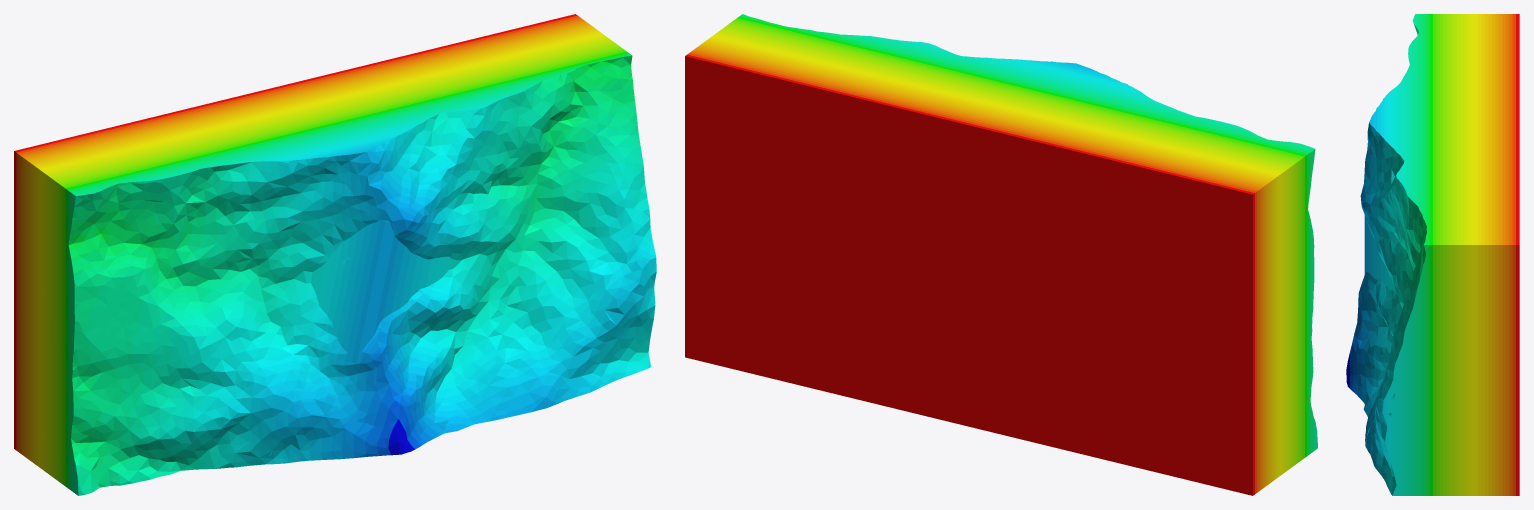
File: Elevation_contour.fbx
3 renders of one model, left to right at view 1: azimuth 30°, elevation 25°; view 2: azimuth 150°, elevation 25°; view 3: azimuth 270°, elevation 25°, orthographic. The views are drawn at different scales.
Visible parts, largest first — view 1: elevation_map_contour_surface; view 2: elevation_map_contour_surface; view 3: elevation_map_contour_surface.
Boxes of the visible parts, x1,y1,x2,y2 form: elevation_map_contour_surface: (14,14,656,495); elevation_map_contour_surface: (685,14,1317,495); elevation_map_contour_surface: (1346,14,1519,495).
Size of the model in its own units: 107006 by 54263 by 33917.
